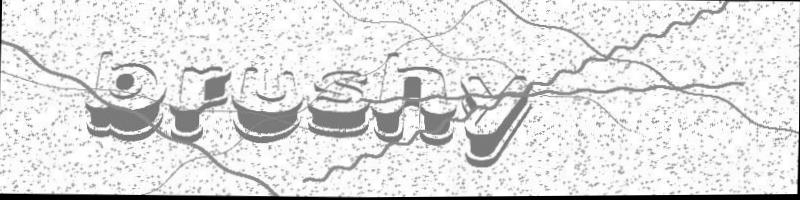b: (81, 50, 166, 143)
h: (370, 50, 460, 149)
r: (168, 63, 231, 148)
s: (307, 68, 371, 142)
u: (231, 65, 303, 144)
y: (456, 74, 535, 172)
